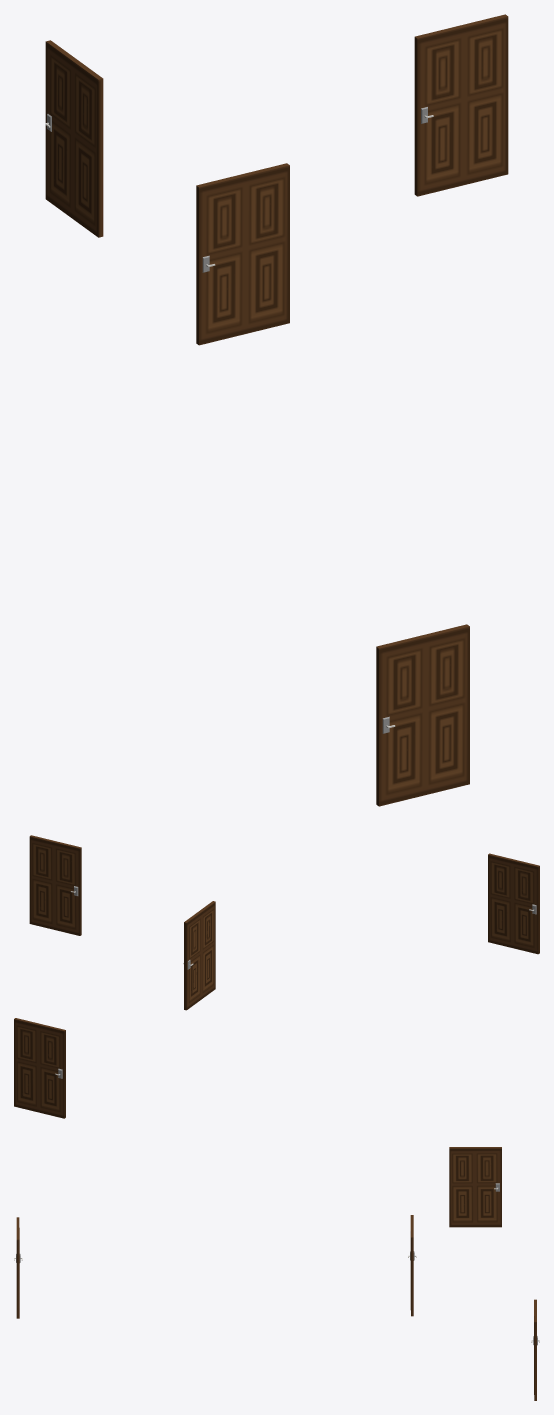
Rendered from House_009_Custom_Doors.fbx.
3 renders of one model, top to bottom at view 1: azimuth 30°, elevation 25°; view 2: azimuth 150°, elevation 25°; view 3: azimuth 270°, elevation 25°, orthographic. The views are drawn at different scales.
Visible parts, largest first — view 1: Door_02_v1, Door_04_v1, Door_01_v1, Door_03_v1; view 2: Door_02_v1, Door_01_v1, Door_04_v1, Door_03_v1; view 3: Door_03_v1, Door_01_v1, Door_02_v1, Door_04_v1.
Boxes of the visible parts, x1,y1,x2,y2 form: Door_02_v1: (414, 14, 508, 196); Door_04_v1: (196, 163, 289, 345); Door_01_v1: (376, 624, 469, 806); Door_03_v1: (45, 40, 103, 237); Door_02_v1: (29, 835, 81, 935); Door_01_v1: (488, 853, 539, 954); Door_04_v1: (14, 1018, 65, 1118); Door_03_v1: (183, 901, 215, 1010); Door_03_v1: (449, 1147, 501, 1227); Door_01_v1: (14, 1217, 22, 1318); Door_02_v1: (408, 1215, 416, 1316); Door_04_v1: (531, 1299, 539, 1400).
Bounding box in the file's own units: 0.3955 × 0.2699 × 0.6882.
